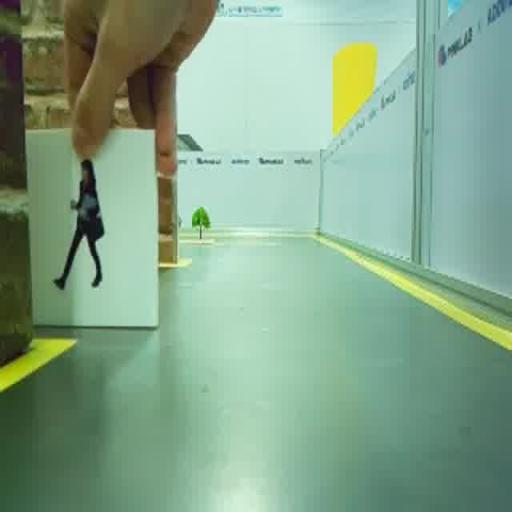human: (54, 160, 104, 289)
